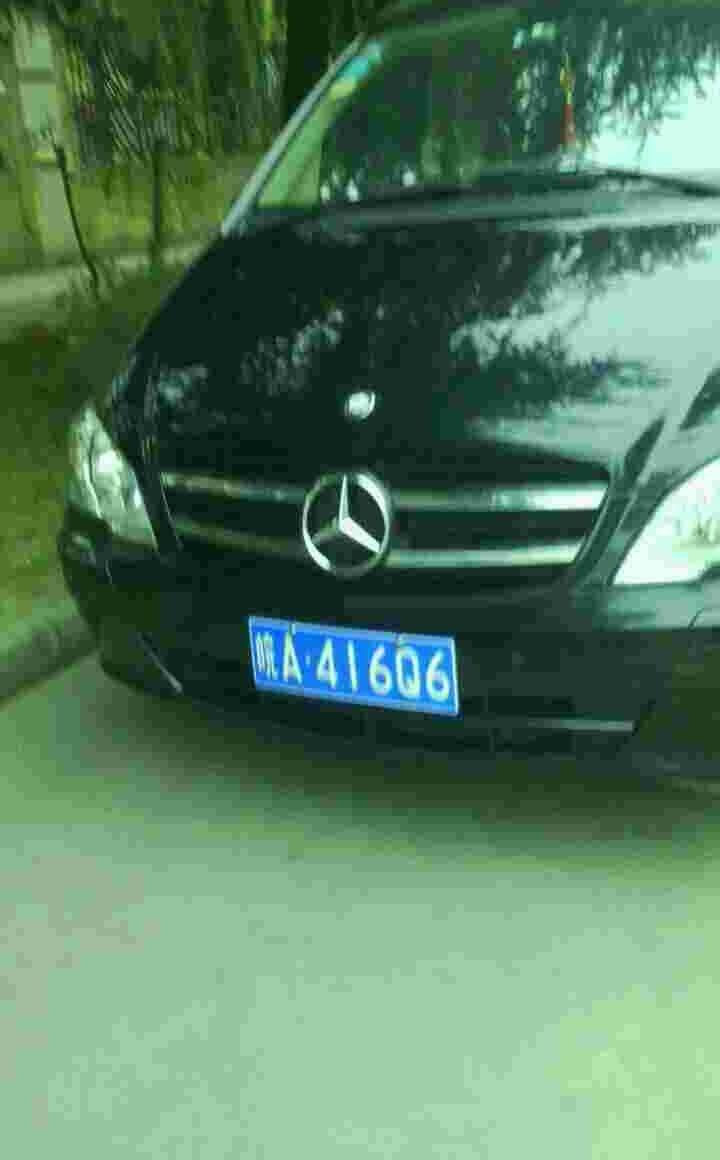plate: (242, 612, 463, 719)
